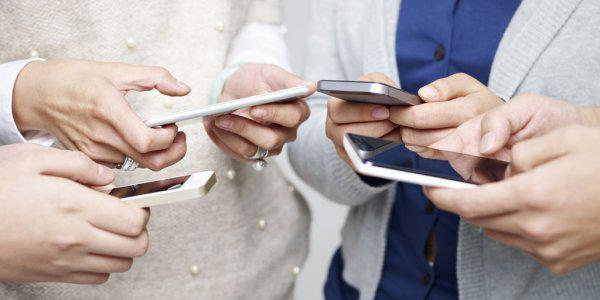mobile: (344, 132, 511, 191), (139, 86, 311, 128), (317, 80, 422, 110), (97, 171, 217, 196)
